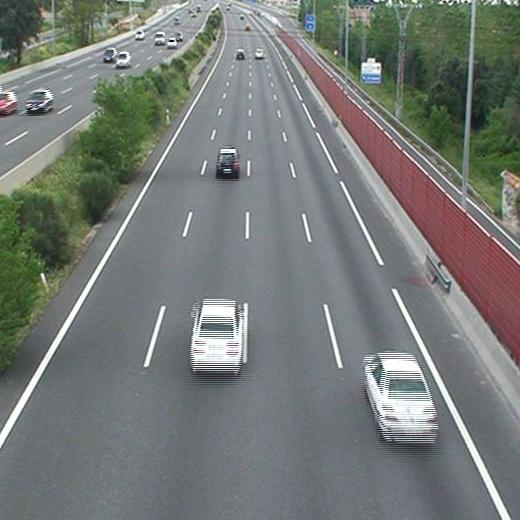car: (364, 353, 437, 440), (190, 300, 242, 371), (216, 148, 240, 175), (255, 48, 264, 58), (236, 50, 245, 60)
